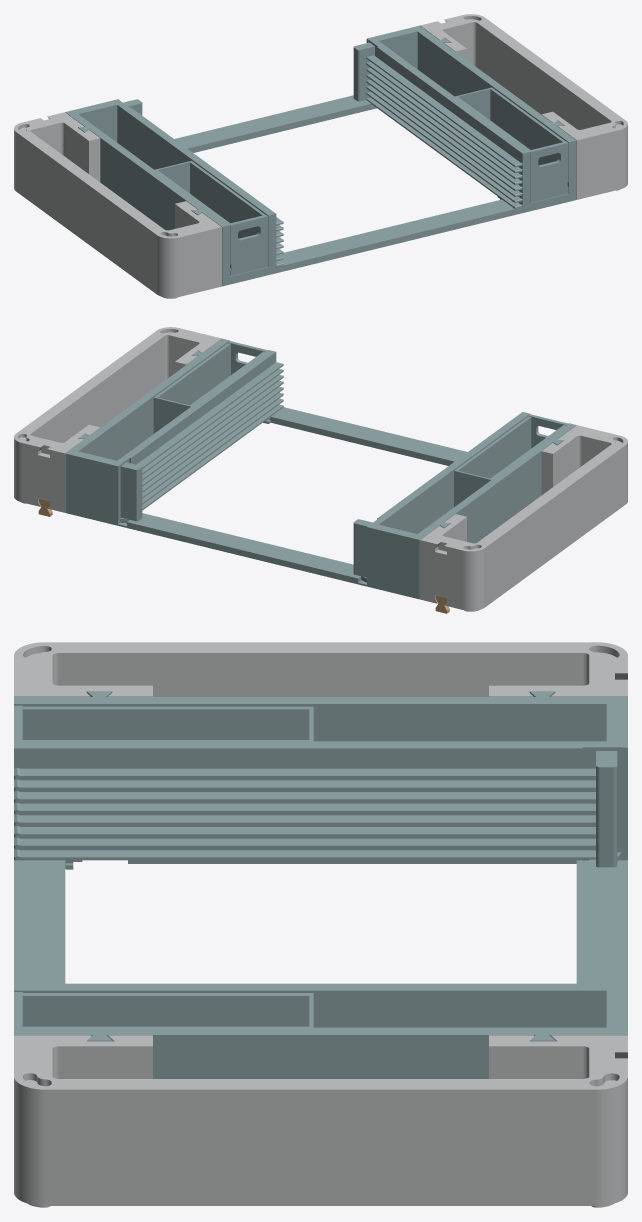
Rendered from layer-assembly.glb.
3 views of the same model, one above another, from view 1: azimuth 30°, elevation 25°; view 2: azimuth 150°, elevation 25°; view 3: azimuth 270°, elevation 25° (orthographic). The views are drawn at different scales.
Parts seen in each view (by area): view 1: B07, B04, B08, B03, B09, B10, B05, B06; view 2: B04, B07, B03, B08, B06, B05, B10, B09; view 3: B03, B08, B04, B07, B09, B10, B05, B06.
Boxes of the visible parts, box(x1,y1,x2,y2) form: B07: box(14, 112, 221, 298); B04: box(353, 25, 576, 214); B08: box(420, 14, 627, 199); B03: box(65, 99, 283, 286); B09: box(154, 160, 268, 275); B10: box(455, 87, 568, 202); B05: box(279, 199, 514, 271); B06: box(174, 95, 372, 152); B04: box(65, 338, 283, 527); B07: box(420, 425, 627, 611); B03: box(353, 412, 576, 599); B08: box(14, 327, 221, 512); B06: box(120, 513, 366, 584); B05: box(269, 407, 467, 465); B10: box(153, 341, 267, 433); B09: box(454, 414, 568, 506); B03: box(14, 691, 627, 869); B08: box(14, 1035, 627, 1207); B04: box(14, 972, 627, 1078); B07: box(14, 642, 627, 696); B09: box(14, 705, 313, 741); B10: box(14, 992, 313, 1027); B05: box(14, 860, 65, 983); B06: box(576, 852, 627, 984).
Bounding box in the file's own units: 0.495 × 0.068 × 0.287.
